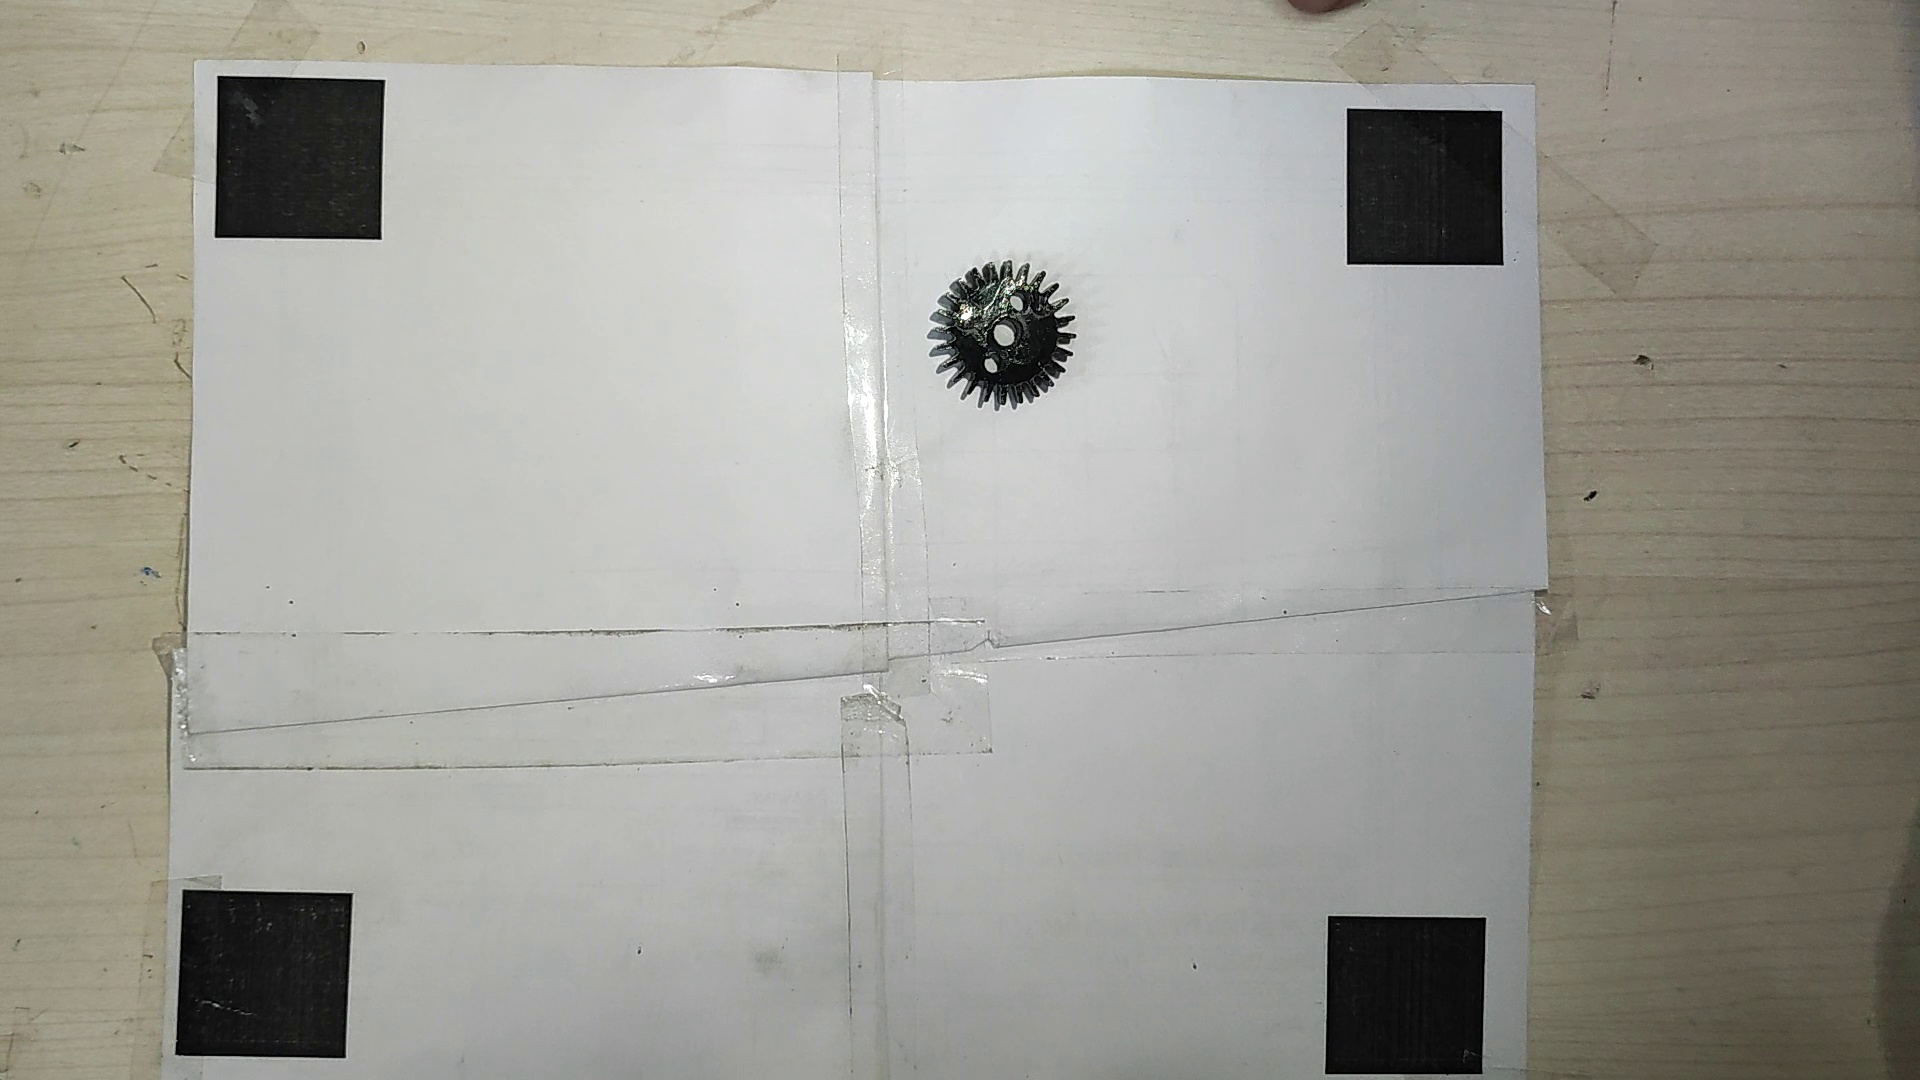Gear: (924, 257, 1079, 415)
